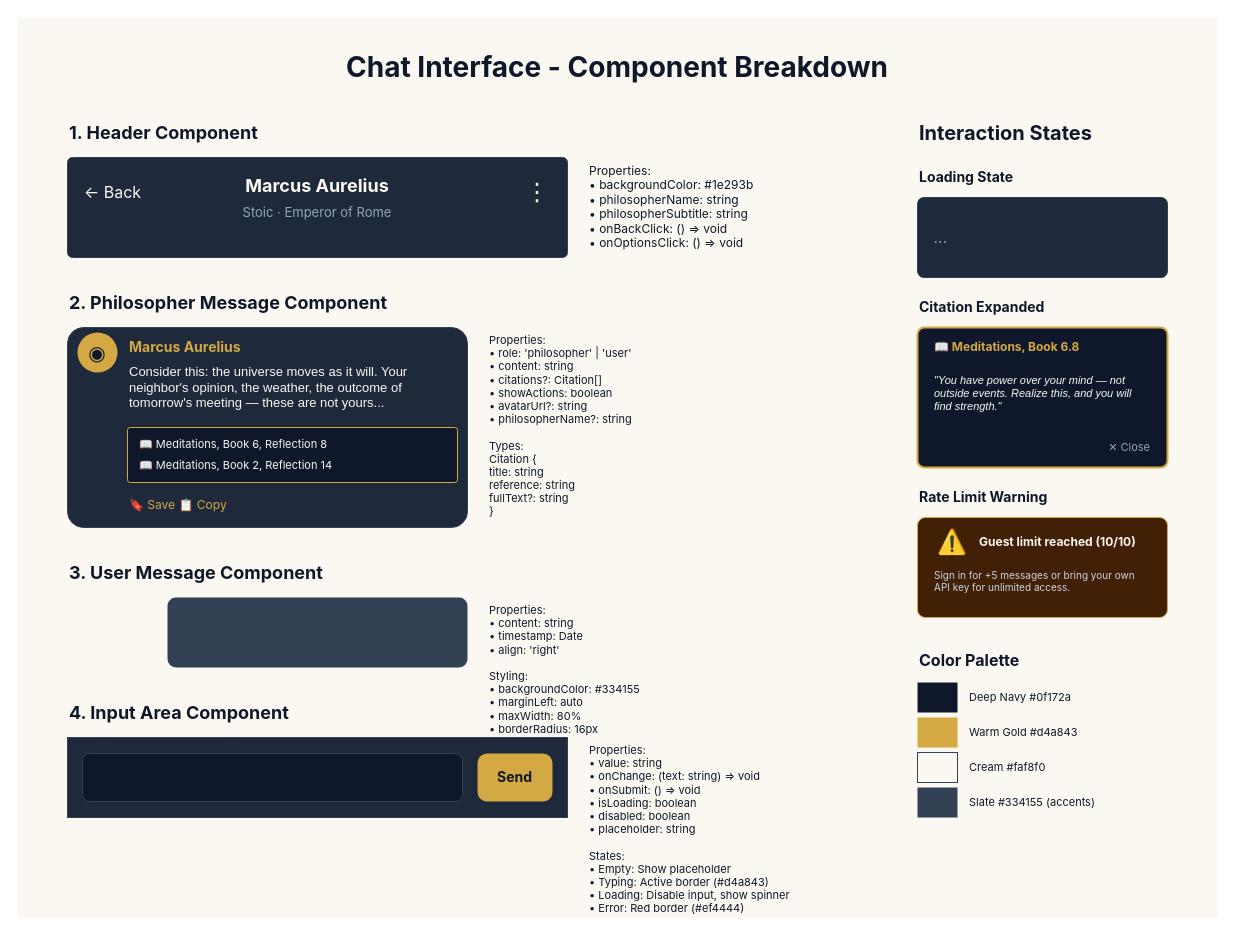
This 1234x934 diagram has some shape labels left out. Here are the shapes that lost their labels. From the top down, the box of each, then its label:
(167, 597, 467, 667): How do I stop worrying about things I can't control?
(82, 752, 462, 802): Type your question...
